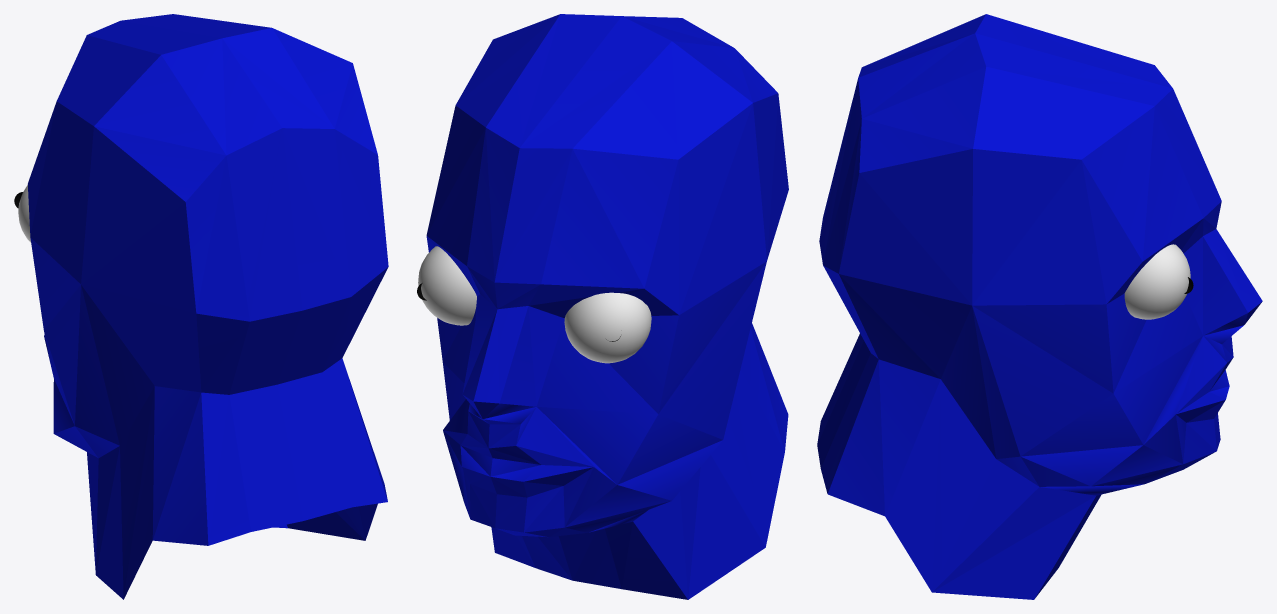
File: player.gltf
3 renders of one model, left to right at view 1: azimuth 30°, elevation 25°; view 2: azimuth 150°, elevation 25°; view 3: azimuth 270°, elevation 25°, orthographic. The views are drawn at different scales.
Parts seen in each view (by area): view 1: Cube_0; view 2: Cube_0; view 3: Cube_0.
Boxes of the visible parts, <box> form: Cube_0: <box>14,14,388,599</box>; Cube_0: <box>417,14,788,599</box>; Cube_0: <box>817,14,1262,599</box>.
Size of the model in its own units: 2.85 by 5.11 by 3.96.
